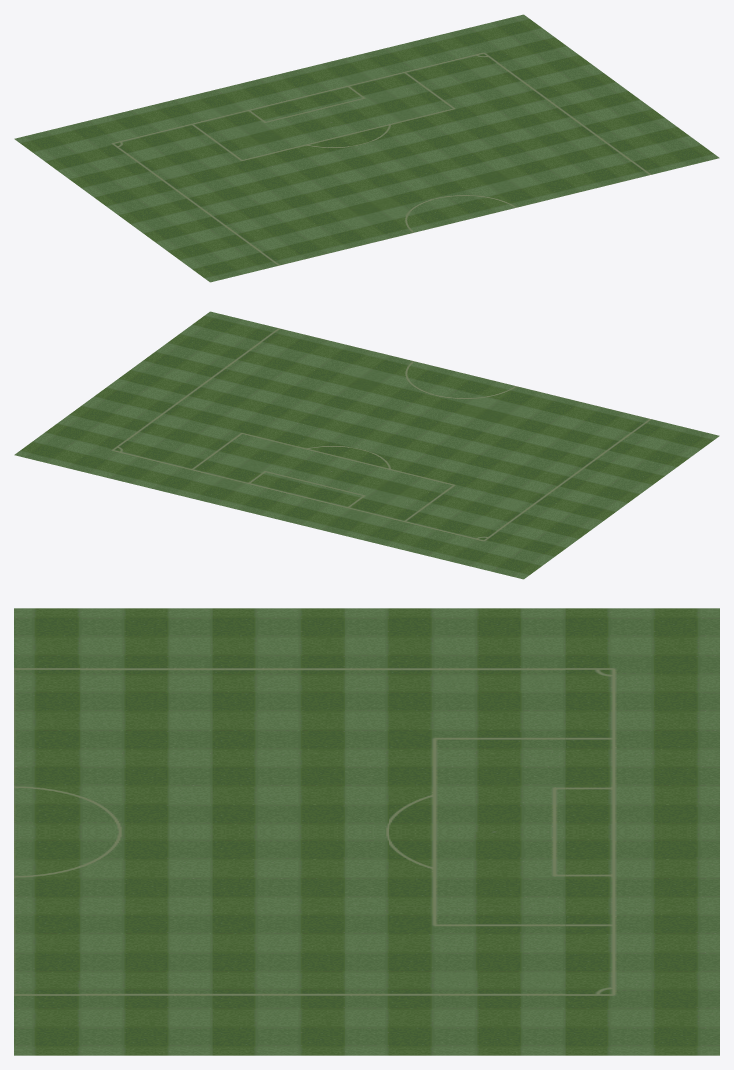
The picture shows the model from 3 angles, top to bottom: view 1: azimuth 30°, elevation 25°; view 2: azimuth 150°, elevation 25°; view 3: azimuth 270°, elevation 25°; orthographic projection. The views are drawn at different scales.
Size of the model in its own units: 92.4 by 0 by 61.61.
Materials: 4 (4 with a texture image).
